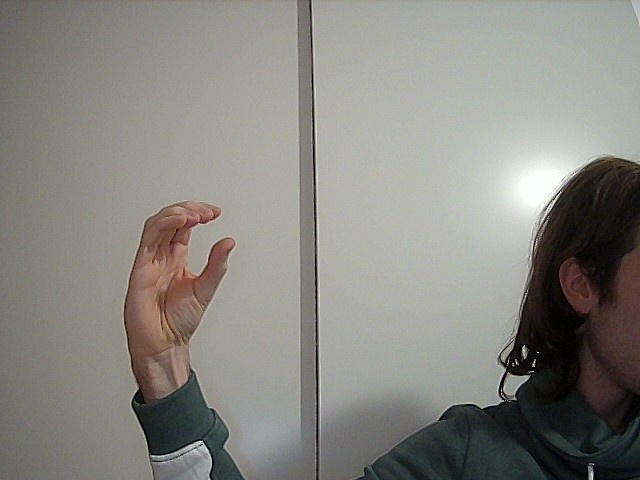c: (90, 191, 268, 358)
